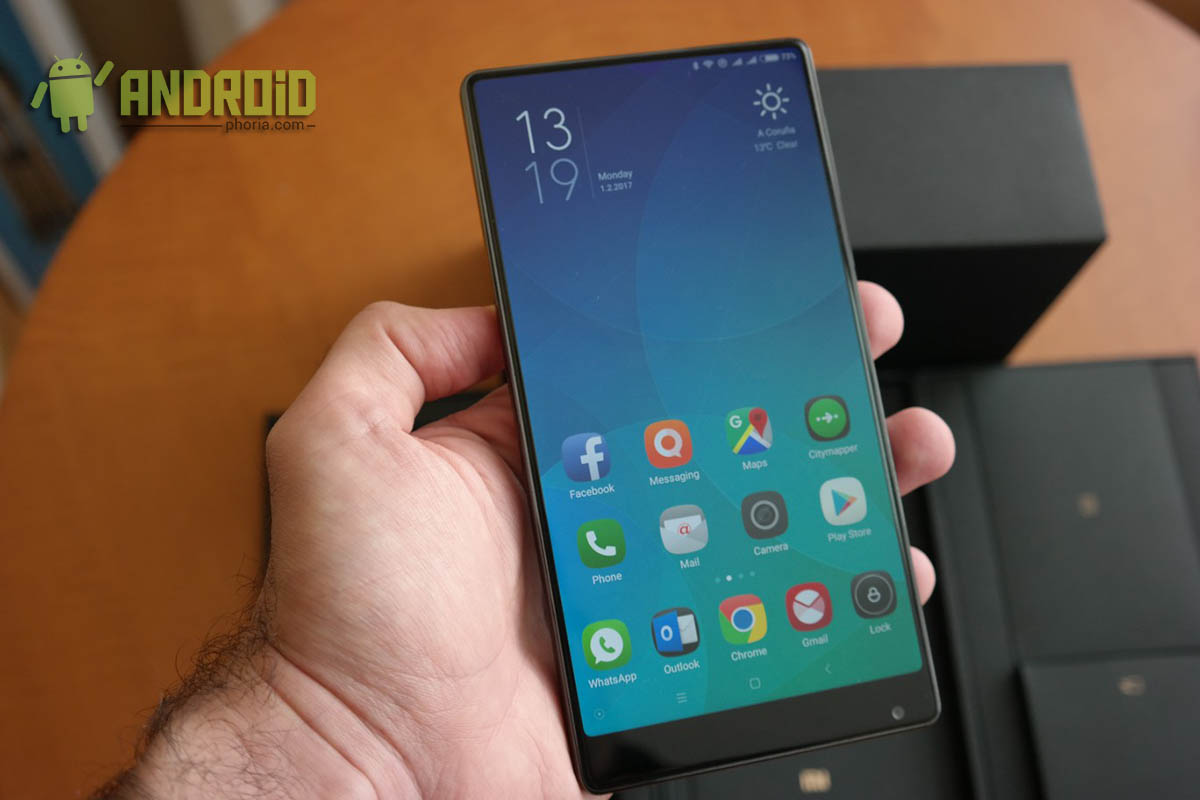smartphone: (460, 38, 943, 795)
